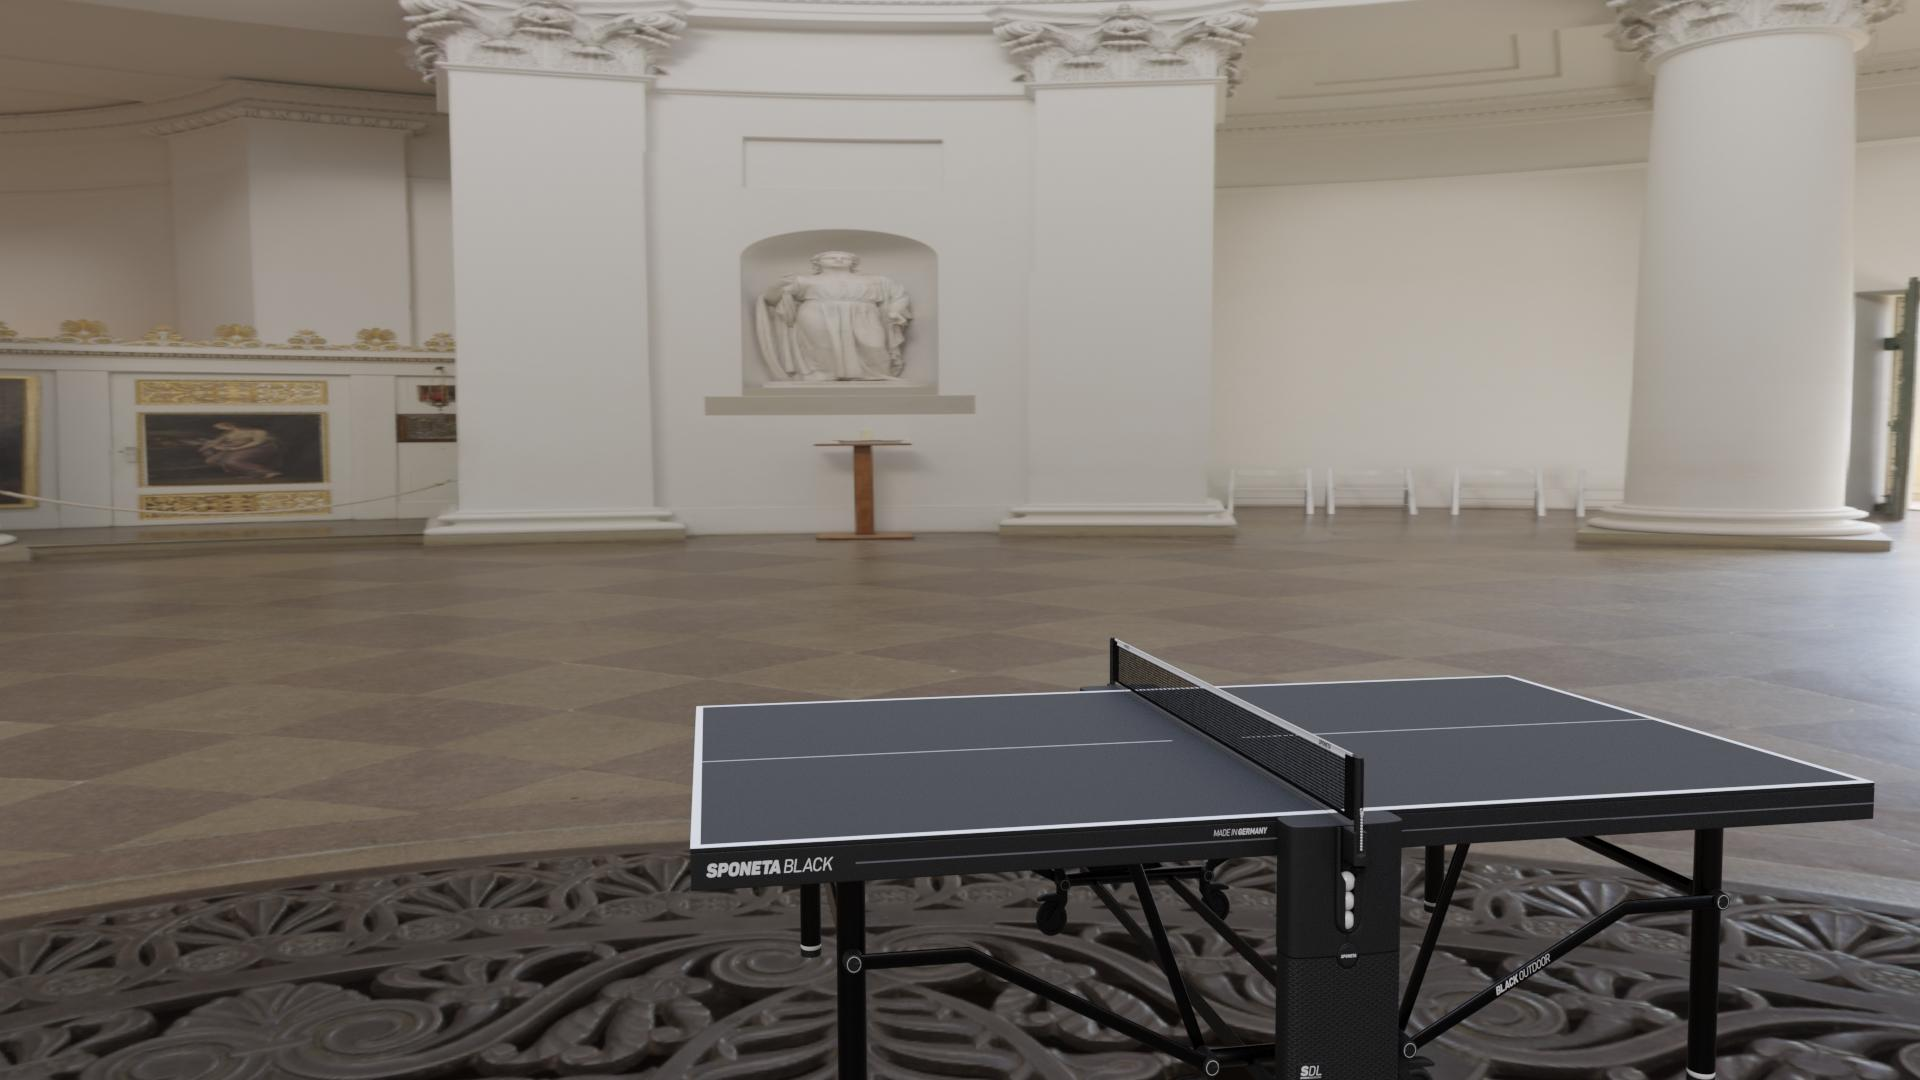table: (700, 676, 1861, 845)
